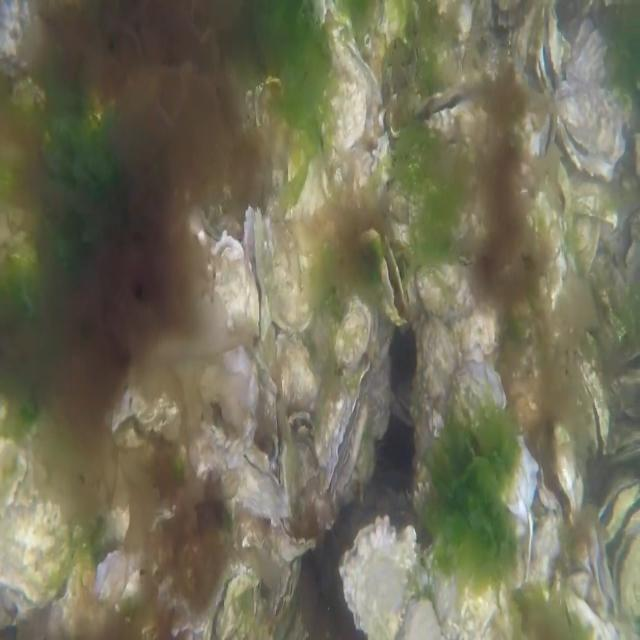Oyster-Closed: (422, 517, 517, 640), (314, 362, 371, 501), (216, 448, 292, 529), (272, 512, 318, 564)
Oyster-Indeterminate: (443, 362, 540, 520), (0, 434, 75, 618), (337, 516, 417, 640), (312, 0, 368, 164), (285, 124, 338, 263), (414, 316, 459, 470), (266, 192, 312, 336), (333, 295, 393, 378), (414, 260, 485, 324), (275, 331, 322, 422), (560, 168, 619, 228), (94, 546, 140, 603), (564, 213, 601, 280)
Oyster-Open: (554, 20, 639, 182), (105, 380, 183, 464), (530, 415, 584, 534), (242, 355, 279, 475), (413, 84, 482, 141), (212, 229, 248, 333), (612, 510, 640, 639), (243, 205, 267, 345), (580, 354, 610, 459), (378, 235, 410, 327), (596, 476, 640, 540), (590, 524, 619, 618), (537, 0, 562, 99), (608, 427, 640, 467)
